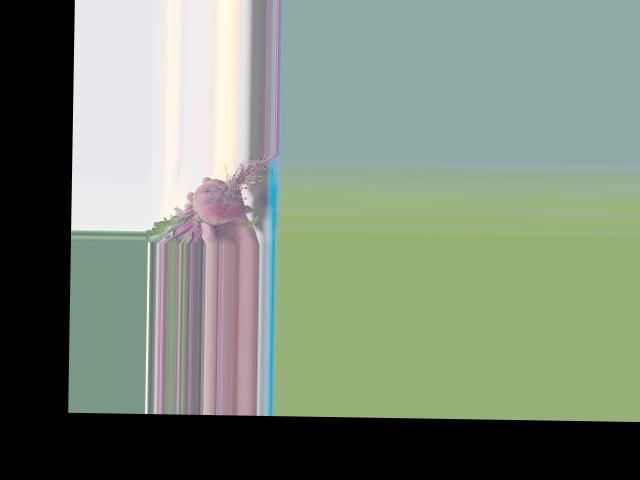beet: (145, 151, 277, 244)
